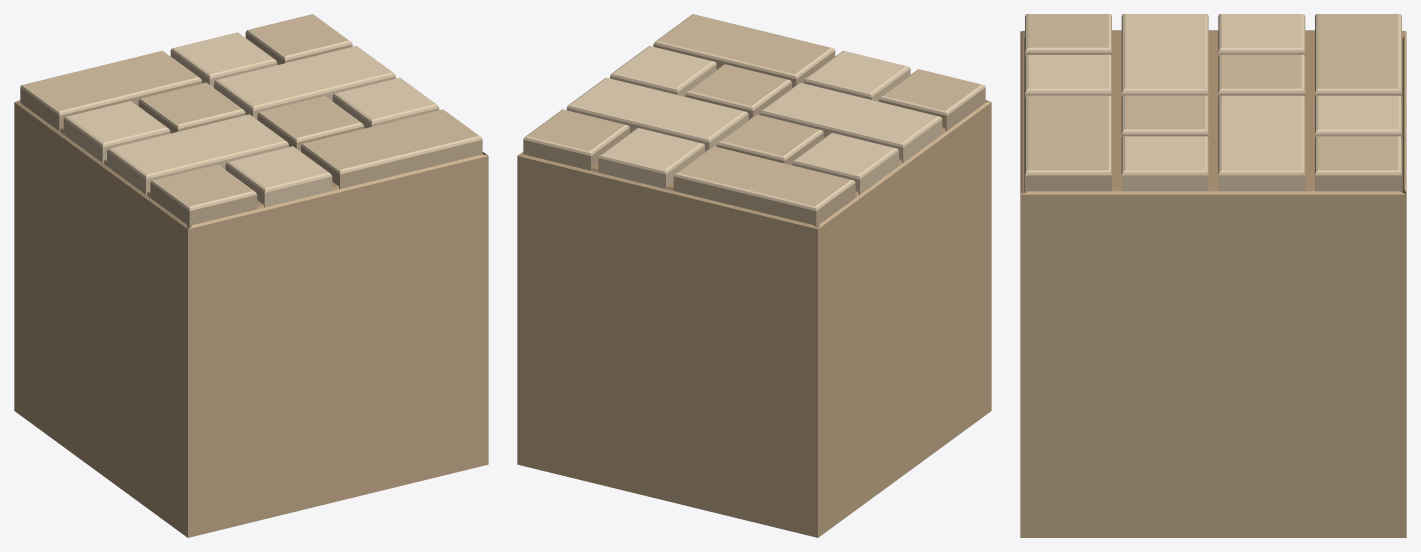
The model's file is brick-tiles.glb.
3 renders of one model, left to right at view 1: azimuth 30°, elevation 25°; view 2: azimuth 150°, elevation 25°; view 3: azimuth 270°, elevation 25°, orthographic. The views are drawn at different scales.
Parts seen in each view (by area): view 1: block-grass-large-b; view 2: block-grass-large-b; view 3: block-grass-large-b.
Part boxes in pixels (left/top/right/bottom): block-grass-large-b: left=14, top=14, right=488, bottom=537; block-grass-large-b: left=517, top=14, right=991, bottom=537; block-grass-large-b: left=1020, top=14, right=1406, bottom=537.
Size of the model in its own units: 2 by 2.08 by 2.
